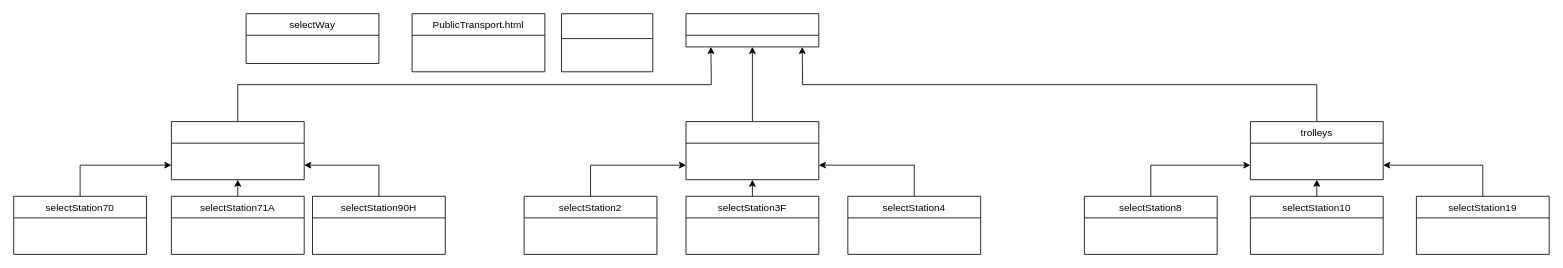
Some shapes in this 1563 by 268 pixel diagram are drawn without their labels. The shapes that lost their labels are listed below. From the top down, each one's box as (x1, y1, x2, y2) in pixels, then its label:
(561, 13, 653, 72): publictransport.js
(685, 13, 819, 47): Vehicles
(171, 121, 304, 180): buses
(685, 121, 819, 180): trams
